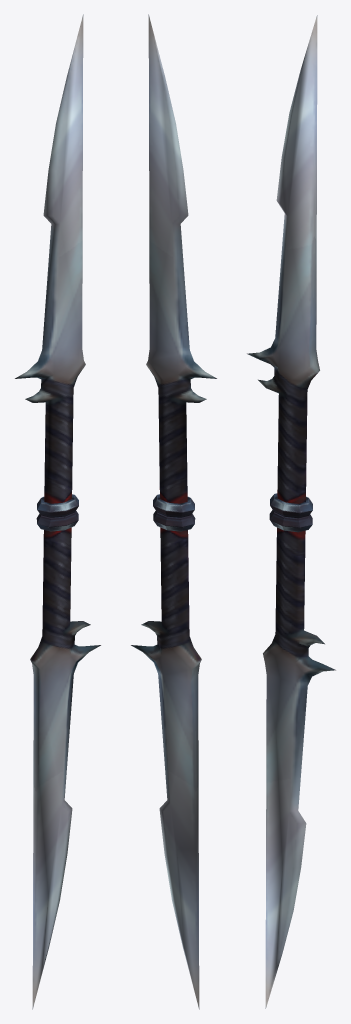
Rendered from youyingguici_wuqi.FBX.
3 views of the same model, side by side, from view 1: azimuth 30°, elevation 25°; view 2: azimuth 150°, elevation 25°; view 3: azimuth 330°, elevation 25° (orthographic). The views are drawn at different scales.
Parts seen in each view (by area): view 1: youyingguici_wuqi; view 2: youyingguici_wuqi; view 3: youyingguici_wuqi.
Boxes of the visible parts, left/top/right/bottom form: youyingguici_wuqi: left=15, top=14, right=100, bottom=1009; youyingguici_wuqi: left=131, top=14, right=216, bottom=1009; youyingguici_wuqi: left=247, top=15, right=335, bottom=1008.
Size of the model in its own units: 17.87 by 191 by 6.17.
